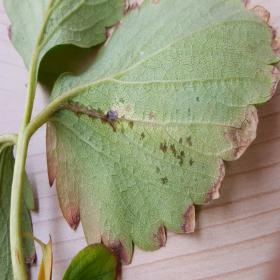Angular Leafspot: (56, 91, 209, 191)
